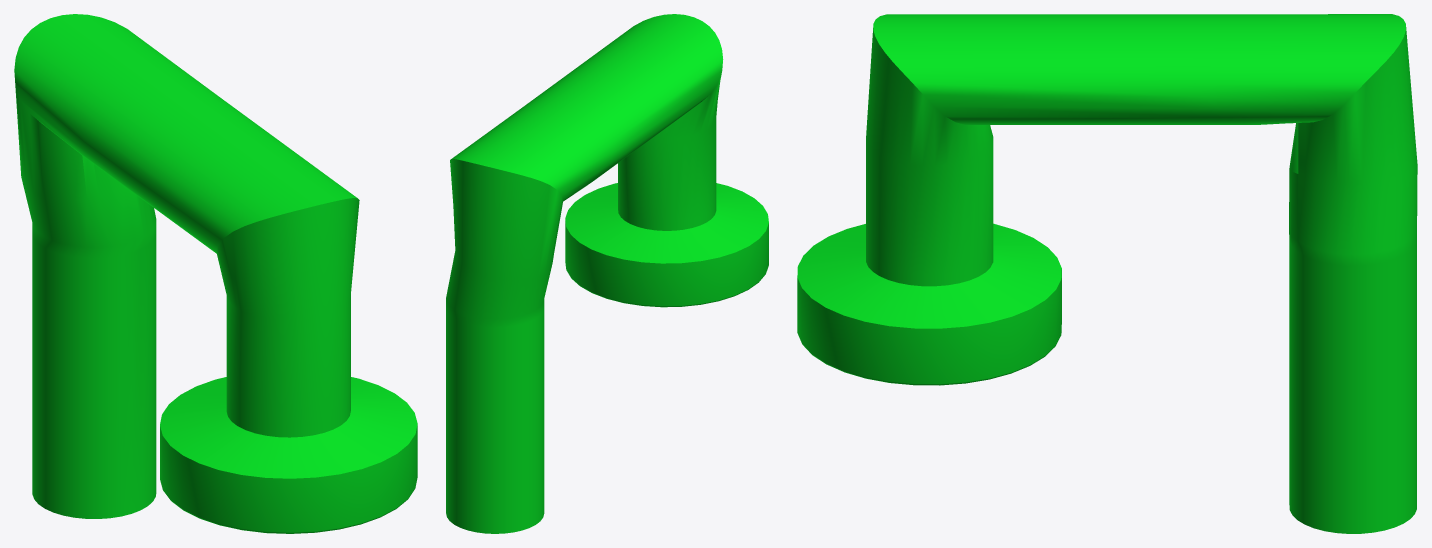
The model's file is Tuberia.fbx.
The picture shows the model from 3 angles, left to right: view 1: azimuth 30°, elevation 25°; view 2: azimuth 150°, elevation 25°; view 3: azimuth 270°, elevation 25°; orthographic projection. The views are drawn at different scales.
Visible parts, largest first — view 1: tuberia; view 2: tuberia; view 3: tuberia.
Boxes of the visible parts, x1,y1,x2,y2 form: tuberia: (14, 14, 417, 533); tuberia: (446, 14, 768, 533); tuberia: (797, 14, 1417, 533).
Size of the model in its own units: 252 by 499 by 592.
